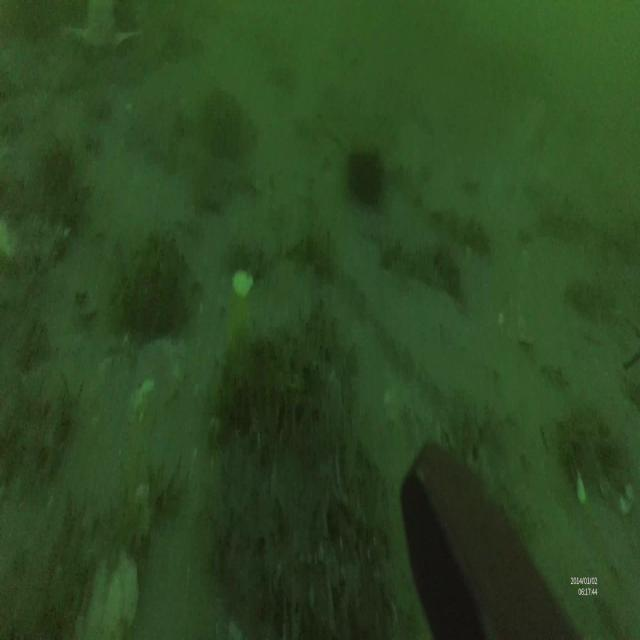echinus: (346, 146, 384, 204)
